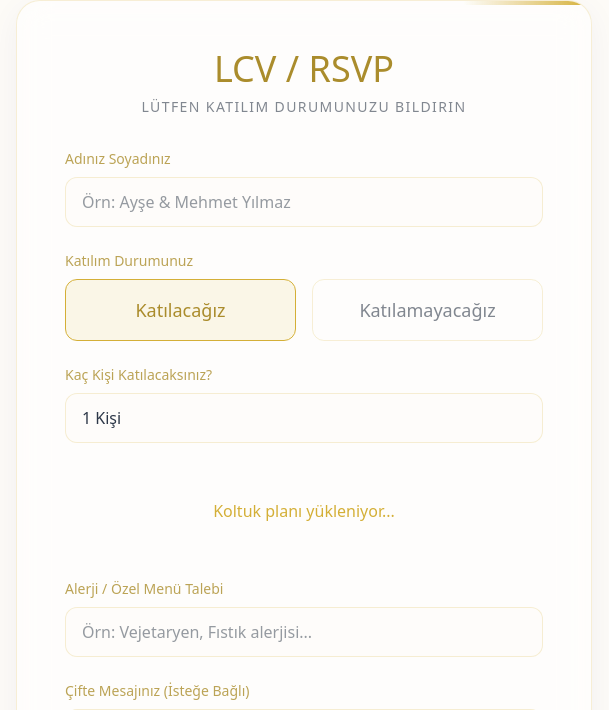
Test case: RSVPForm › hides attendance-only fields when the guest cannot attend
Click the radio button showing "no": [428, 310] box [312,279,543,341]
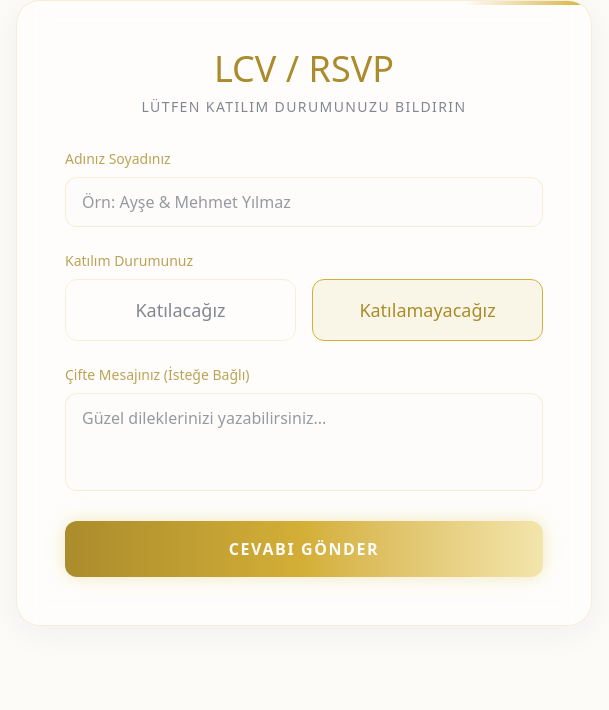
Expected: the text "Kaç Kişi Katılacaksınız?" is gone
Expected: the text "Alerji / Özel Menü Talebi" is gone
